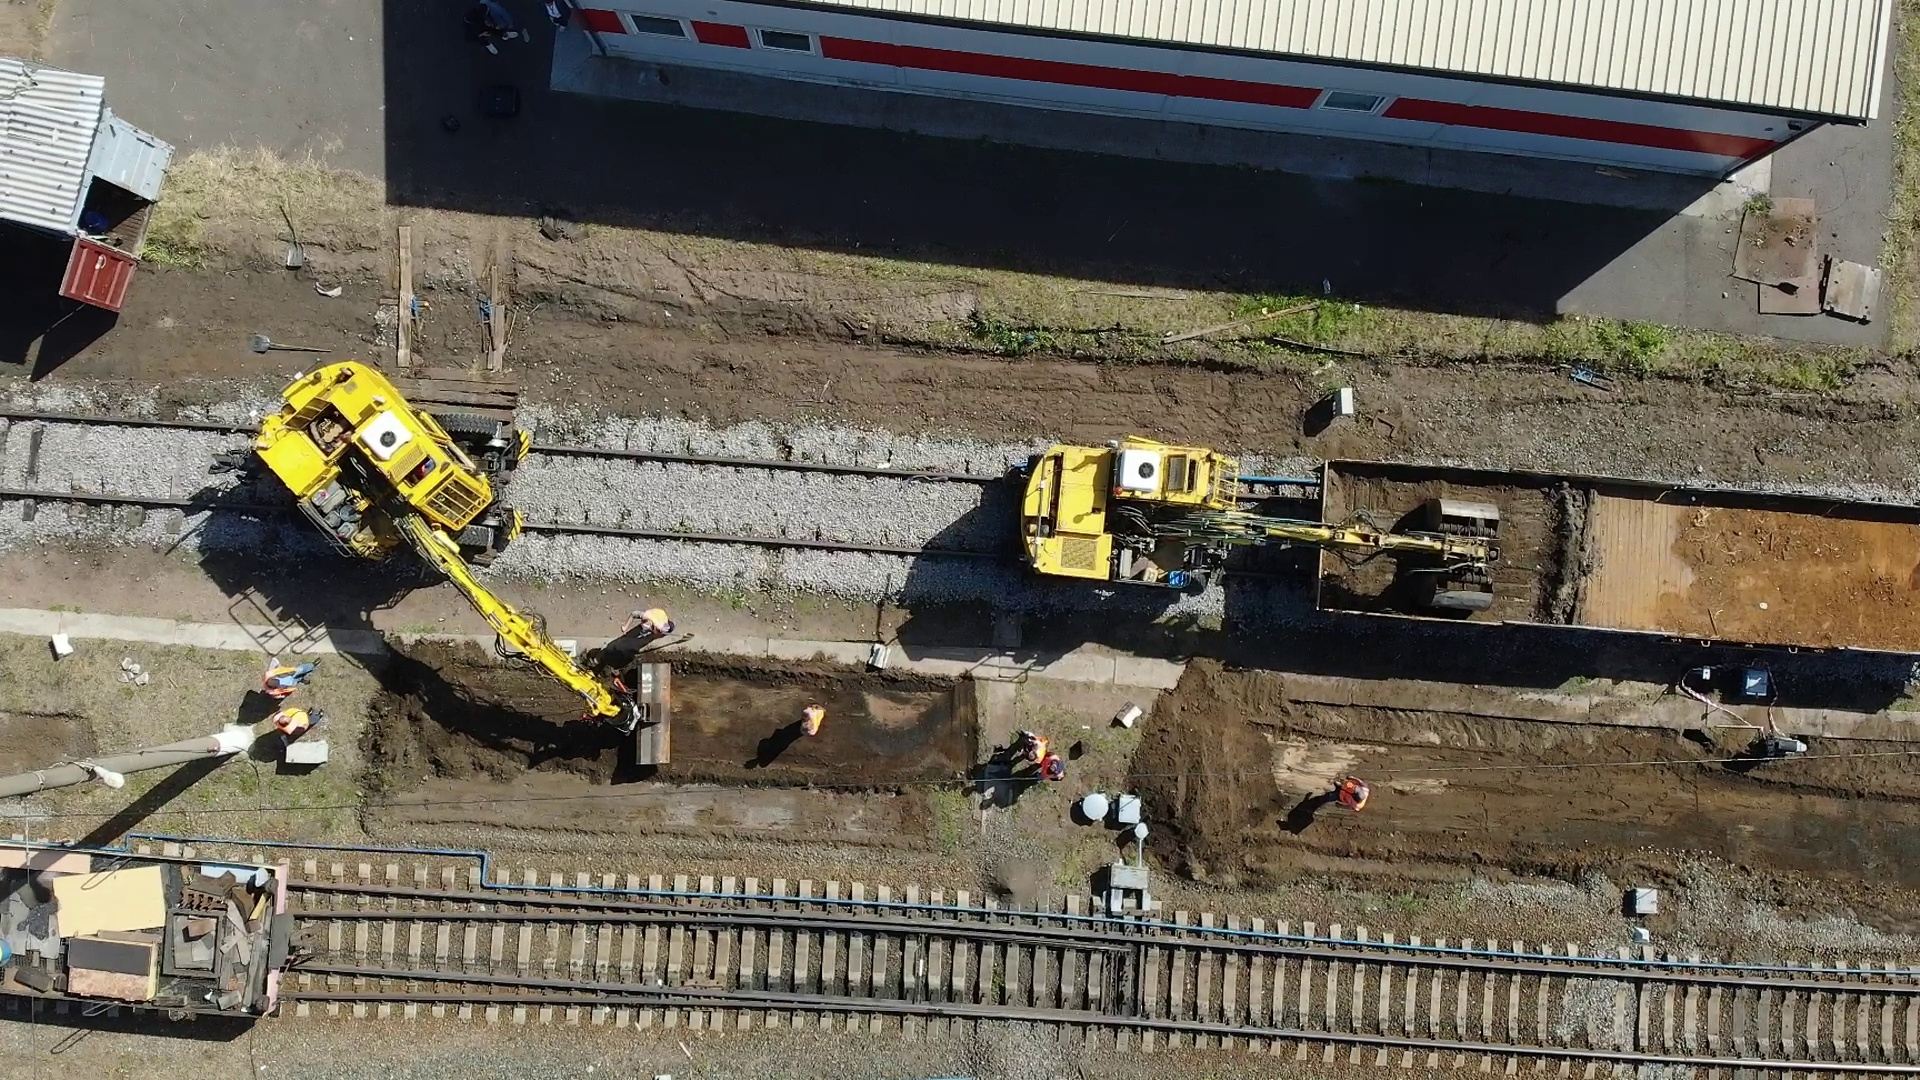kjtv: (248, 363, 519, 565), (1012, 437, 1248, 603)
